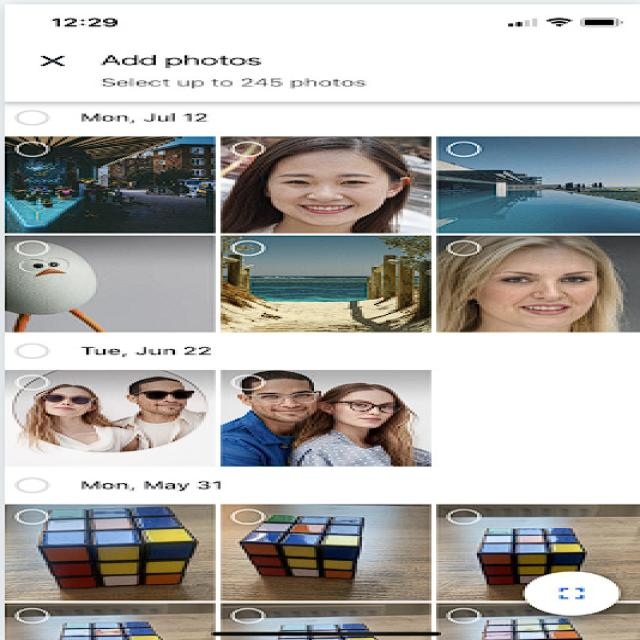column: (216, 101, 434, 640), (0, 104, 216, 640), (432, 100, 640, 640)
icon button: (28, 47, 92, 76)
row: (3, 370, 640, 470), (0, 134, 640, 233), (3, 504, 640, 602), (9, 233, 640, 329)
text: (103, 47, 437, 90)
